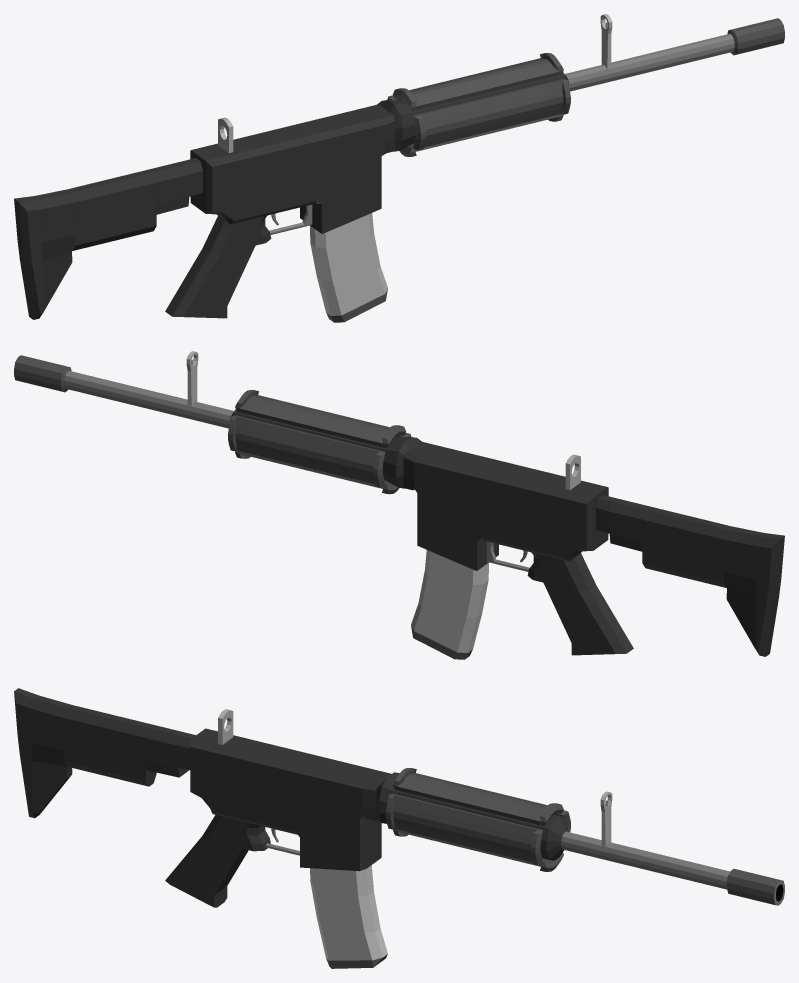
The picture shows the model from 3 angles, top to bottom: view 1: azimuth 30°, elevation 25°; view 2: azimuth 150°, elevation 25°; view 3: azimuth 330°, elevation 25°; orthographic projection.
Visible parts, largest first — view 1: Cube, Cube.004, Cube.006, Cube.005, Cube.003, Cube.001, Cube.002, Cube.008; view 2: Cube, Cube.004, Cube.006, Cube.005, Cube.003, Cube.001, Cube.002, Cube.008; view 3: Cube, Cube.004, Cube.006, Cube.005, Cube.003, Cube.001, Cube.002, Cube.008.
Boxes of the visible parts, <box> form: Cube: <box>190,104,395,233</box>; Cube.004: <box>14,158,202,319</box>; Cube.006: <box>387,53,570,156</box>; Cube.005: <box>310,213,387,322</box>; Cube.003: <box>165,215,271,318</box>; Cube.001: <box>564,18,784,91</box>; Cube.002: <box>377,72,568,151</box>; Cube.008: <box>218,14,612,152</box>; Cube: <box>403,441,608,570</box>; Cube.004: <box>596,495,784,656</box>; Cube.006: <box>228,390,411,494</box>; Cube.005: <box>411,550,488,659</box>; Cube.003: <box>527,552,633,655</box>; Cube.001: <box>14,355,234,428</box>; Cube.002: <box>230,409,421,488</box>; Cube.008: <box>186,351,580,489</box>; Cube: <box>190,728,391,871</box>; Cube.004: <box>14,688,195,818</box>; Cube.006: <box>385,768,570,871</box>; Cube.005: <box>310,865,387,968</box>; Cube.003: <box>165,815,270,907</box>; Cube.001: <box>561,831,784,905</box>; Cube.002: <box>376,772,568,860</box>; Cube.008: <box>218,709,612,846</box>.
Bounding box in the file's own units: 975 × 291 × 78.39.
